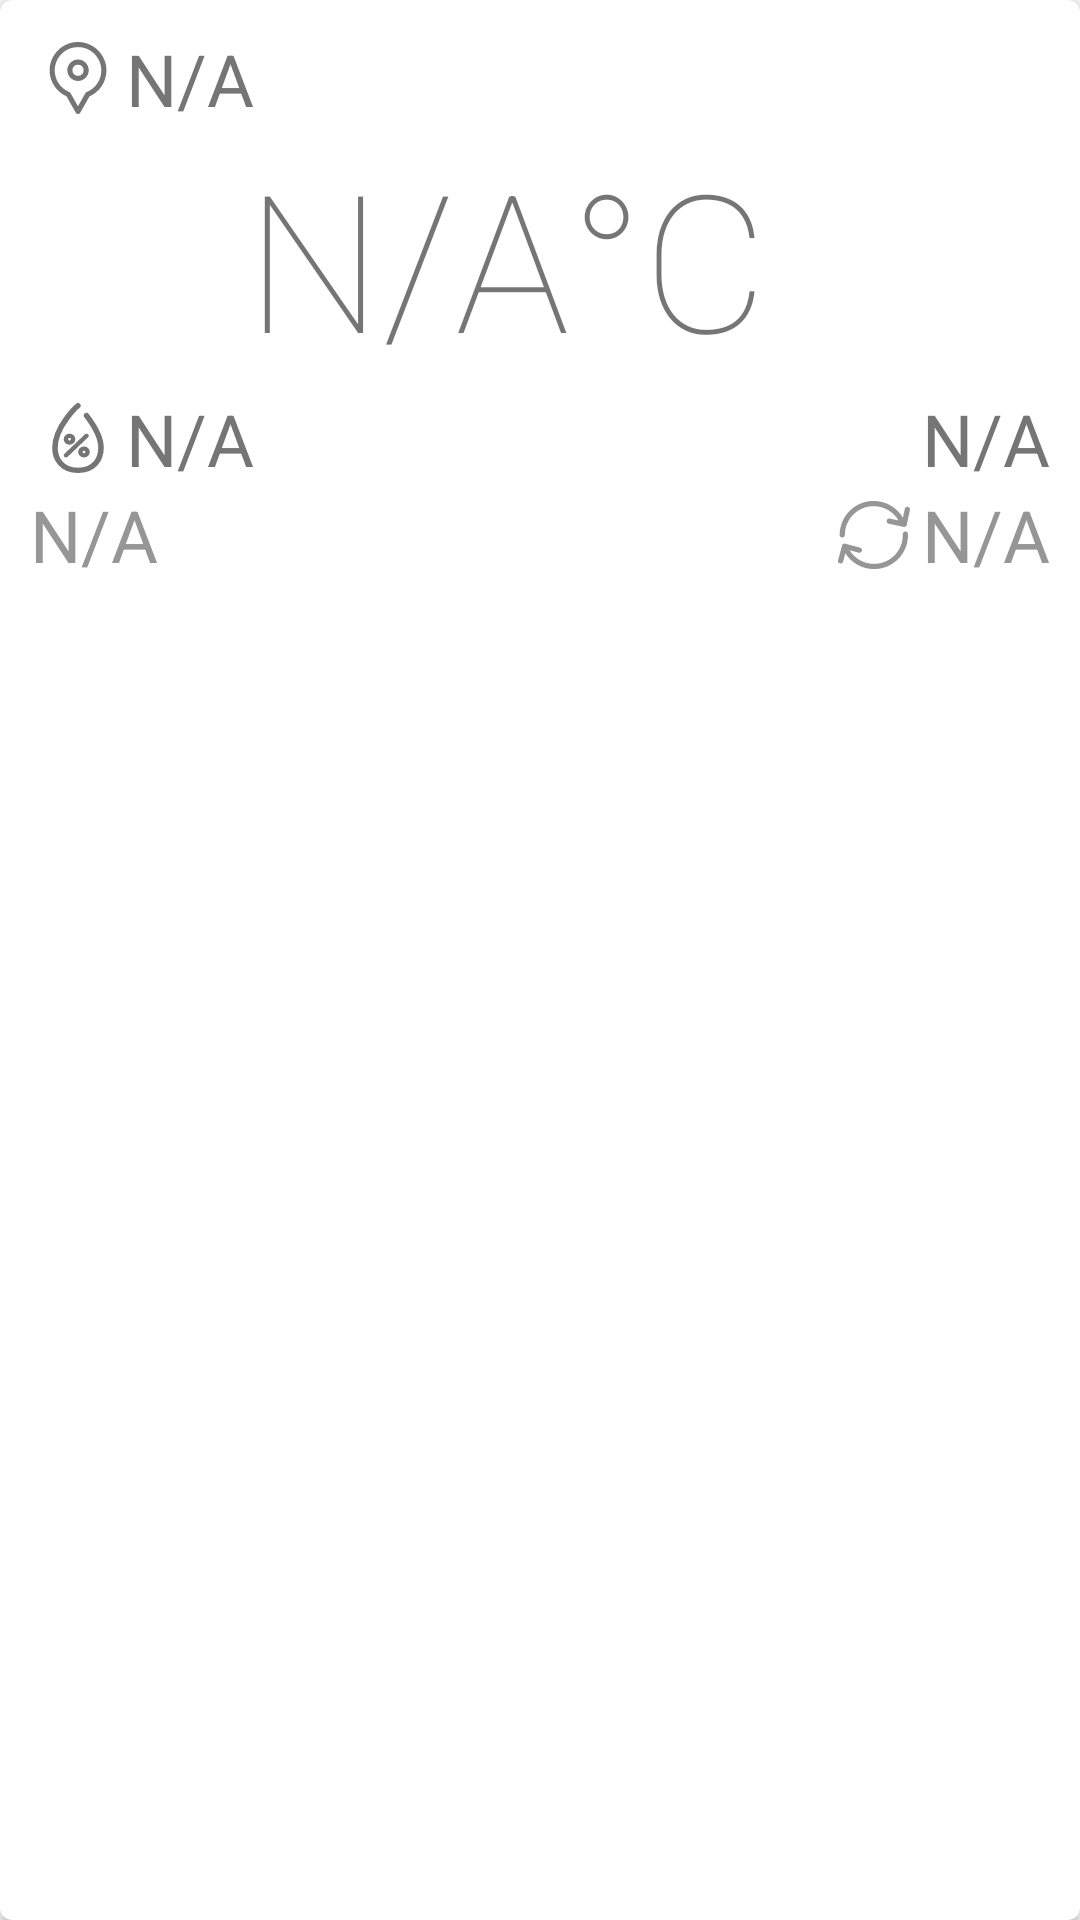

Screen size 1080*1920. Icon name, then its center in pixels as (x,y):
humidity: (78,438)
location pointer: (78,78)
update arrows: (874,535)
